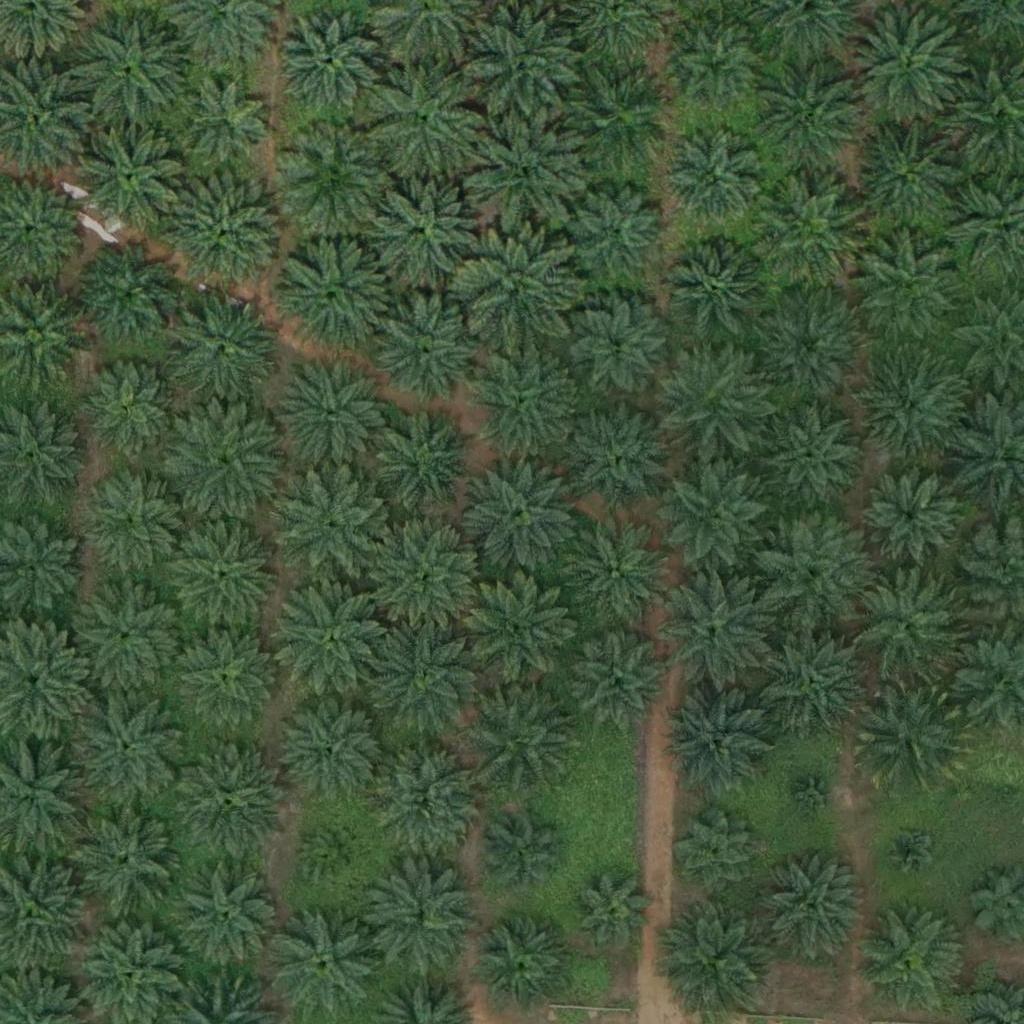Kelapa_Sawit: (755, 56, 868, 170), (853, 232, 966, 346), (856, 352, 969, 466), (370, 741, 483, 855), (276, 582, 389, 696), (74, 11, 187, 124), (75, 116, 188, 229), (169, 176, 282, 289), (279, 235, 392, 348), (465, 10, 578, 123), (467, 116, 580, 229), (461, 231, 574, 344), (850, 10, 963, 123), (852, 119, 965, 232), (660, 462, 773, 575), (660, 575, 773, 688), (663, 690, 776, 803), (558, 511, 671, 624), (374, 522, 487, 635), (368, 617, 481, 730), (275, 357, 388, 470), (279, 473, 392, 586), (166, 292, 279, 405), (171, 406, 284, 519), (268, 908, 381, 1021), (364, 865, 477, 978), (663, 903, 776, 1016), (756, 181, 868, 295), (172, 520, 284, 634), (855, 903, 967, 1017), (854, 679, 966, 792), (278, 121, 390, 234), (372, 63, 484, 176), (370, 169, 482, 282), (563, 64, 675, 177), (752, 290, 864, 403), (852, 569, 964, 682), (752, 515, 864, 628), (756, 622, 868, 735), (655, 344, 767, 457), (467, 348, 579, 461), (464, 459, 576, 572), (469, 571, 581, 684), (468, 678, 580, 791), (374, 293, 486, 406), (174, 746, 286, 859), (73, 583, 185, 696), (77, 693, 189, 806), (71, 802, 183, 915), (756, 853, 868, 966), (77, 243, 177, 344), (177, 76, 277, 177), (277, 9, 377, 110), (567, 181, 667, 282), (569, 300, 669, 401), (669, 242, 769, 343), (861, 466, 961, 567), (763, 407, 863, 508), (569, 404, 669, 505), (570, 631, 670, 732), (379, 410, 479, 511), (179, 867, 279, 968), (664, 129, 764, 229), (284, 699, 384, 799), (177, 630, 277, 730), (78, 362, 178, 462), (83, 476, 183, 576), (479, 921, 567, 1010), (670, 26, 758, 114), (675, 811, 762, 899), (488, 821, 563, 897), (574, 872, 649, 947), (305, 824, 367, 887), (790, 769, 840, 820), (884, 825, 934, 876)
